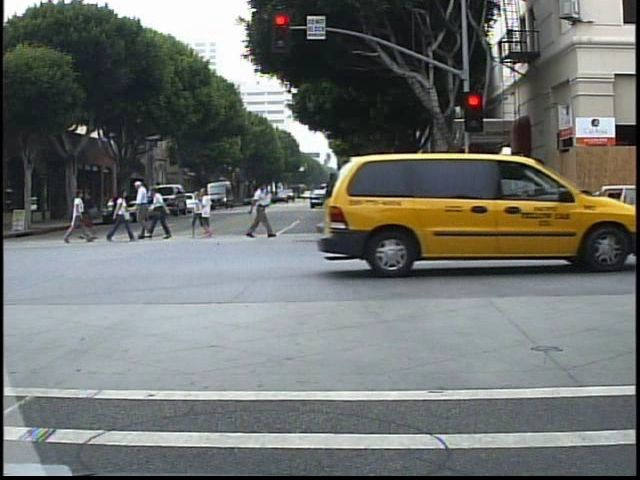person: (244, 181, 277, 241), (318, 166, 343, 239), (63, 187, 94, 244), (133, 176, 155, 244), (150, 185, 175, 241), (109, 187, 129, 245), (86, 189, 100, 244)
